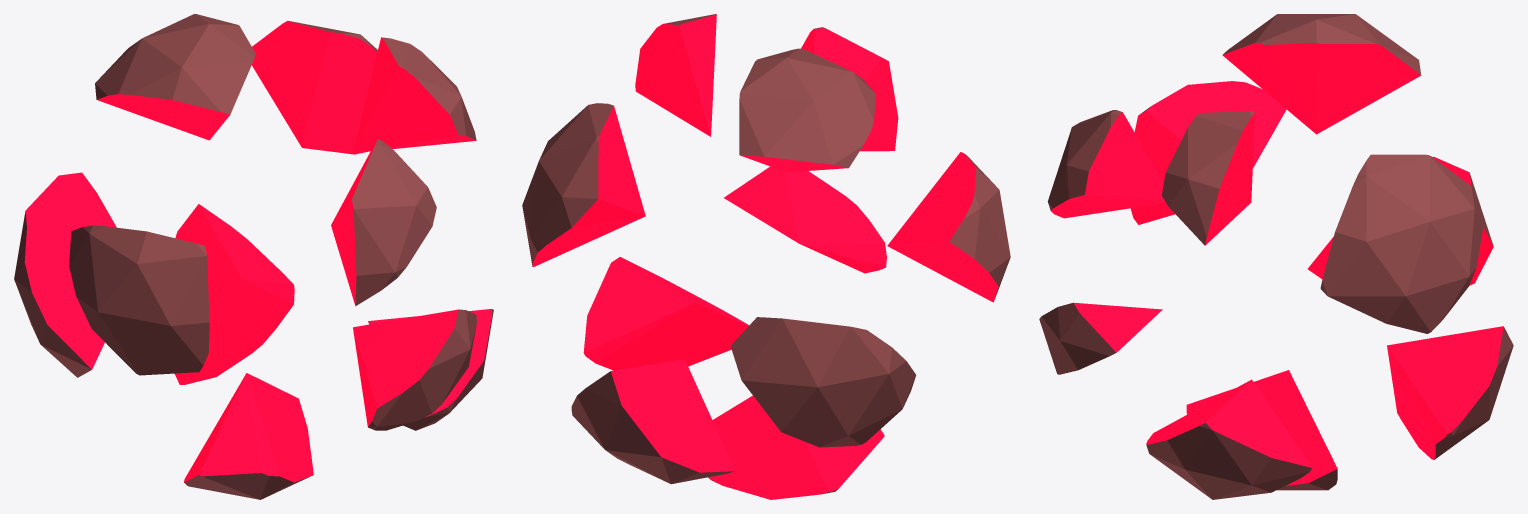
File: Crystal2.fbx
3 views of the same model, side by side, from view 1: azimuth 30°, elevation 25°; view 2: azimuth 150°, elevation 25°; view 3: azimuth 270°, elevation 25° (orthographic).
Visible parts, largest first — view 1: Crystal2_cell.003, Crystal2_cell.008, Crystal2_cell.000, Crystal2_cell.006, Crystal2_cell.007, Crystal2_cell.004, Crystal2_cell.009, Crystal2_cell.005, Crystal2_cell.002, Crystal2_cell.001; view 2: Crystal2_cell.006, Crystal2_cell.008, Crystal2_cell.005, Crystal2_cell.000, Crystal2_cell.001, Crystal2_cell.003, Crystal2_cell.004, Crystal2_cell.007, Crystal2_cell.002, Crystal2_cell.009; view 3: Crystal2_cell.000, Crystal2_cell.008, Crystal2_cell.001, Crystal2_cell.005, Crystal2_cell.002, Crystal2_cell.009, Crystal2_cell.003, Crystal2_cell.007, Crystal2_cell.004, Crystal2_cell.006.
Part boxes in pixels (x1=…): Crystal2_cell.003: x1=69, y1=225, x2=209, y2=375; Crystal2_cell.008: x1=95, y1=14, x2=255, y2=140; Crystal2_cell.000: x1=252, y1=21, x2=377, y2=154; Crystal2_cell.006: x1=14, y1=172, x2=116, y2=377; Crystal2_cell.007: x1=353, y1=309, x2=476, y2=430; Crystal2_cell.004: x1=184, y1=373, x2=313, y2=499; Crystal2_cell.009: x1=331, y1=139, x2=436, y2=306; Crystal2_cell.005: x1=175, y1=204, x2=294, y2=384; Crystal2_cell.002: x1=353, y1=37, x2=476, y2=152; Crystal2_cell.001: x1=368, y1=309, x2=493, y2=430; Crystal2_cell.006: x1=730, y1=317, x2=916, y2=447; Crystal2_cell.008: x1=739, y1=48, x2=875, y2=172; Crystal2_cell.005: x1=571, y1=359, x2=735, y2=484; Crystal2_cell.000: x1=522, y1=103, x2=645, y2=266; Crystal2_cell.001: x1=583, y1=257, x2=748, y2=370; Crystal2_cell.003: x1=887, y1=152, x2=1010, y2=302; Crystal2_cell.004: x1=708, y1=395, x2=884, y2=499; Crystal2_cell.007: x1=724, y1=166, x2=886, y2=273; Crystal2_cell.002: x1=635, y1=14, x2=716, y2=136; Crystal2_cell.009: x1=801, y1=27, x2=898, y2=151; Crystal2_cell.000: x1=1320, y1=154, x2=1483, y2=333; Crystal2_cell.008: x1=1222, y1=14, x2=1421, y2=134; Crystal2_cell.001: x1=1146, y1=379, x2=1312, y2=499; Crystal2_cell.005: x1=1387, y1=326, x2=1513, y2=459; Crystal2_cell.002: x1=1161, y1=111, x2=1255, y2=245; Crystal2_cell.009: x1=1047, y1=110, x2=1165, y2=218; Crystal2_cell.003: x1=1130, y1=81, x2=1286, y2=224; Crystal2_cell.007: x1=1039, y1=302, x2=1162, y2=374; Crystal2_cell.004: x1=1186, y1=370, x2=1337, y2=490; Crystal2_cell.006: x1=1307, y1=156, x2=1493, y2=285.
Bounding box in the file's own units: 6371 × 6990 × 6619.
